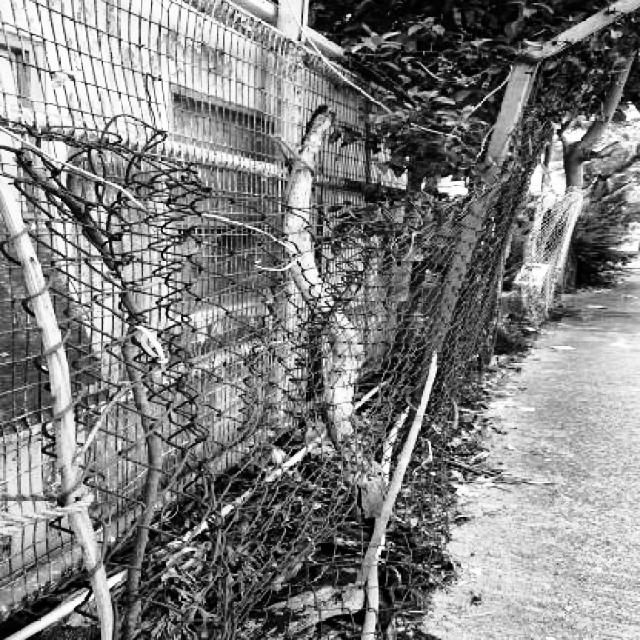anomaly-fence: (0, 50, 550, 640)
